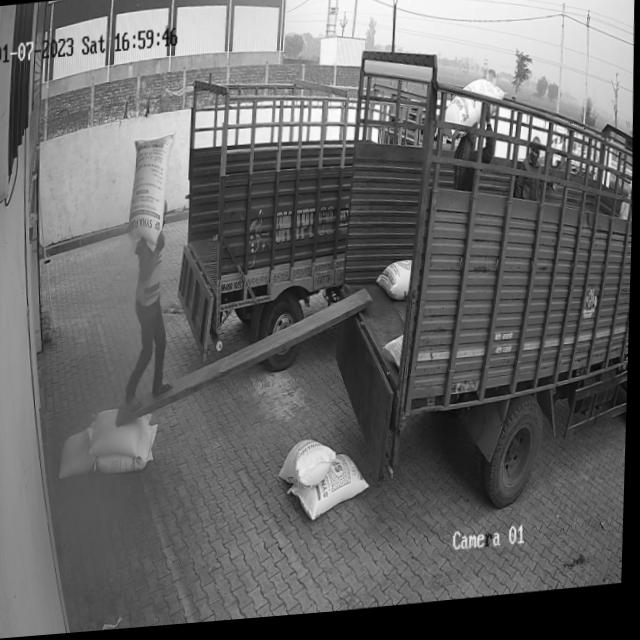sack: (127, 136, 176, 255), (290, 456, 372, 527), (90, 407, 154, 461), (96, 426, 160, 476), (281, 442, 339, 495), (59, 428, 98, 480)
